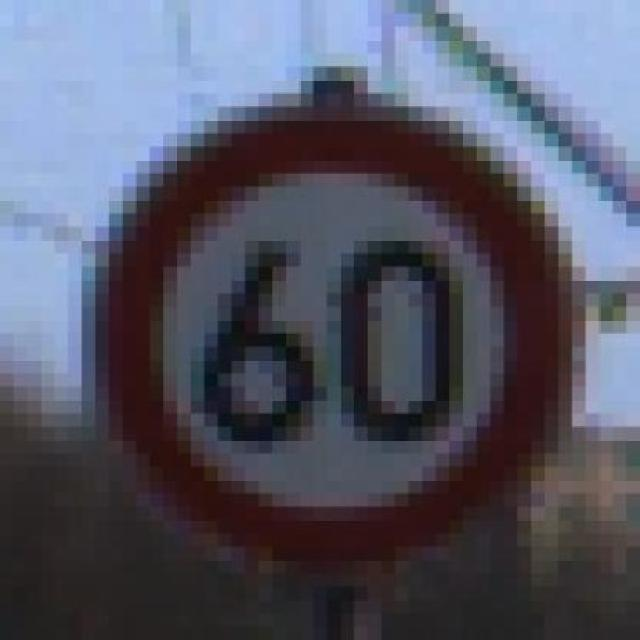forb_speed_over_60: (114, 116, 541, 547)
